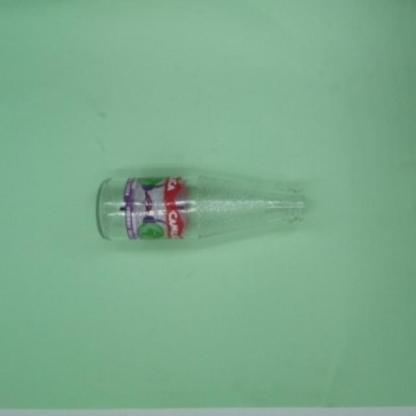Can: (96, 176, 306, 241)
